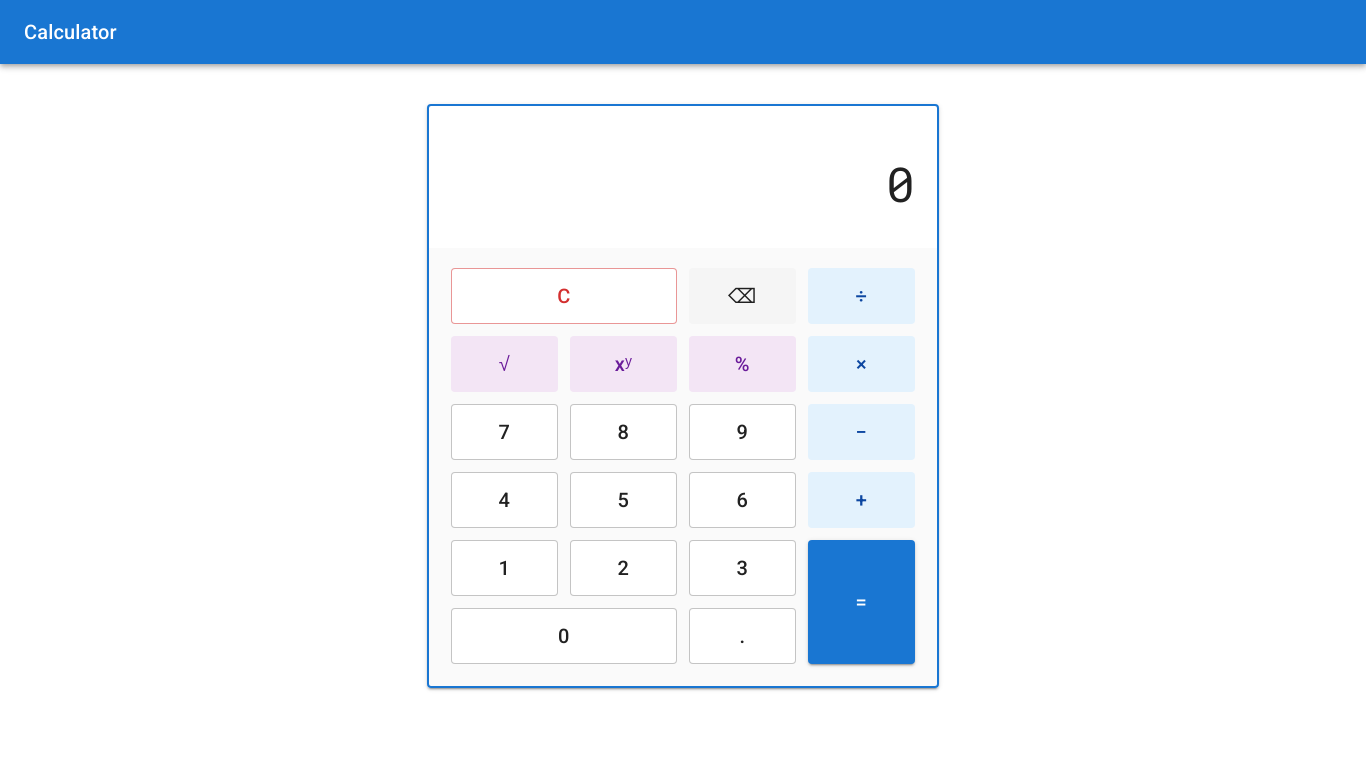
Test: errors › opens the snackbar on a 500
Step 1. Click the button "2" → click(624, 568), box [570,540,677,596]
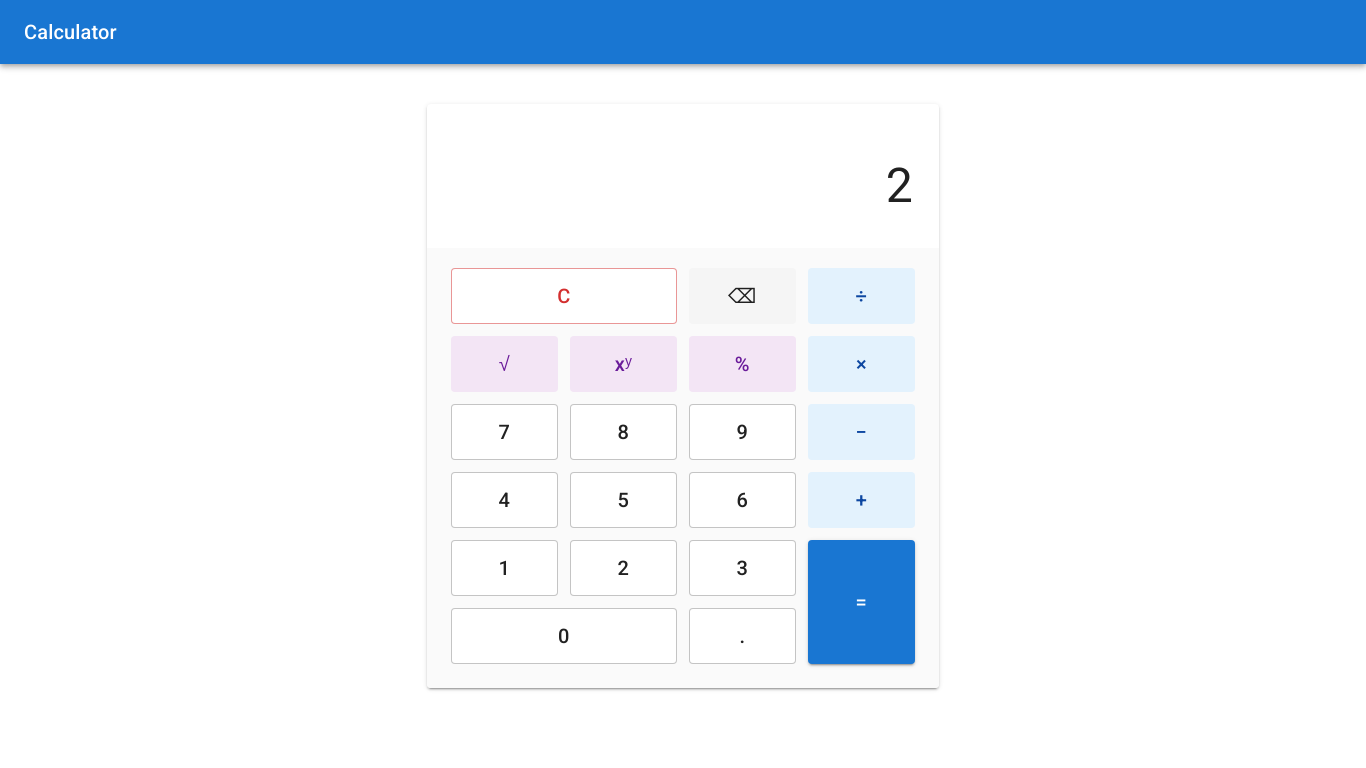
Step 2. Click the button named "Plus" → click(862, 500), box [808,472,915,528]
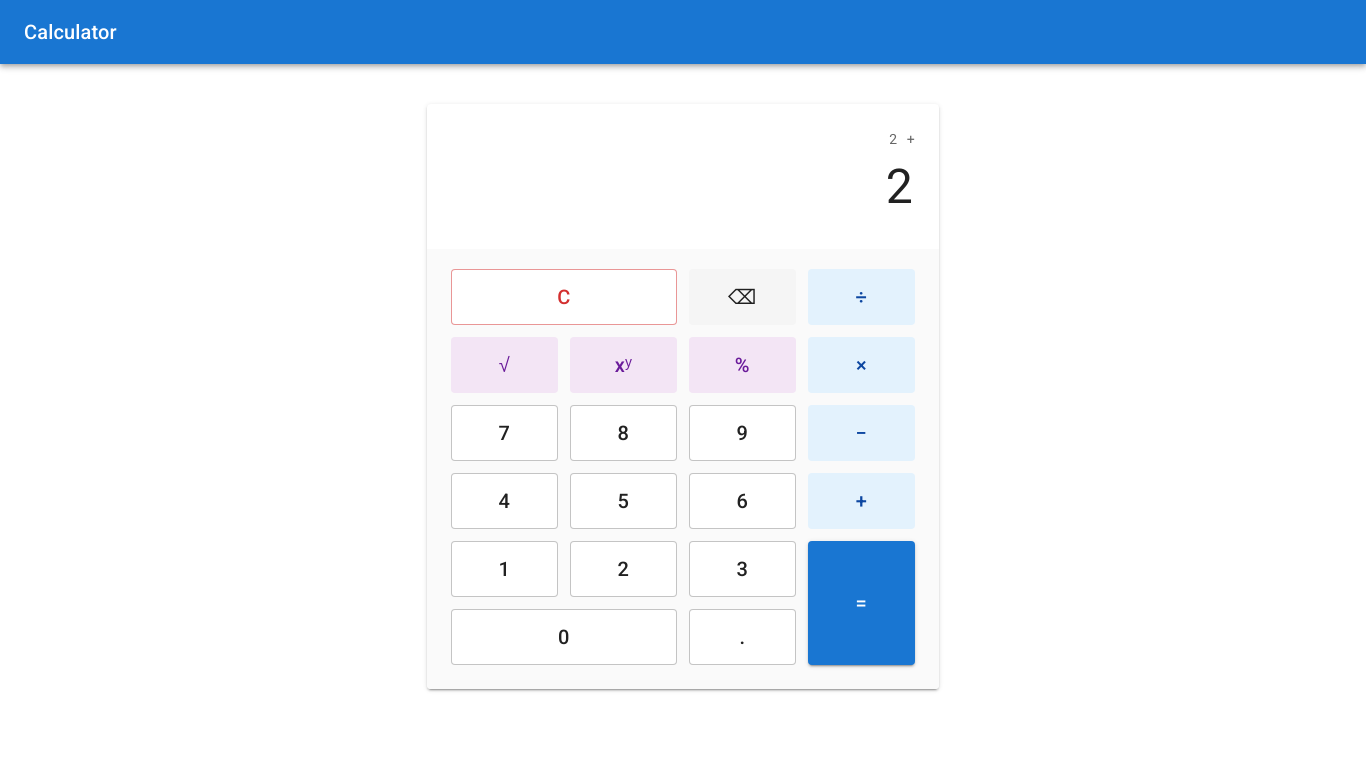
Step 3. Click the button "3" → click(742, 569), box [689,541,796,597]
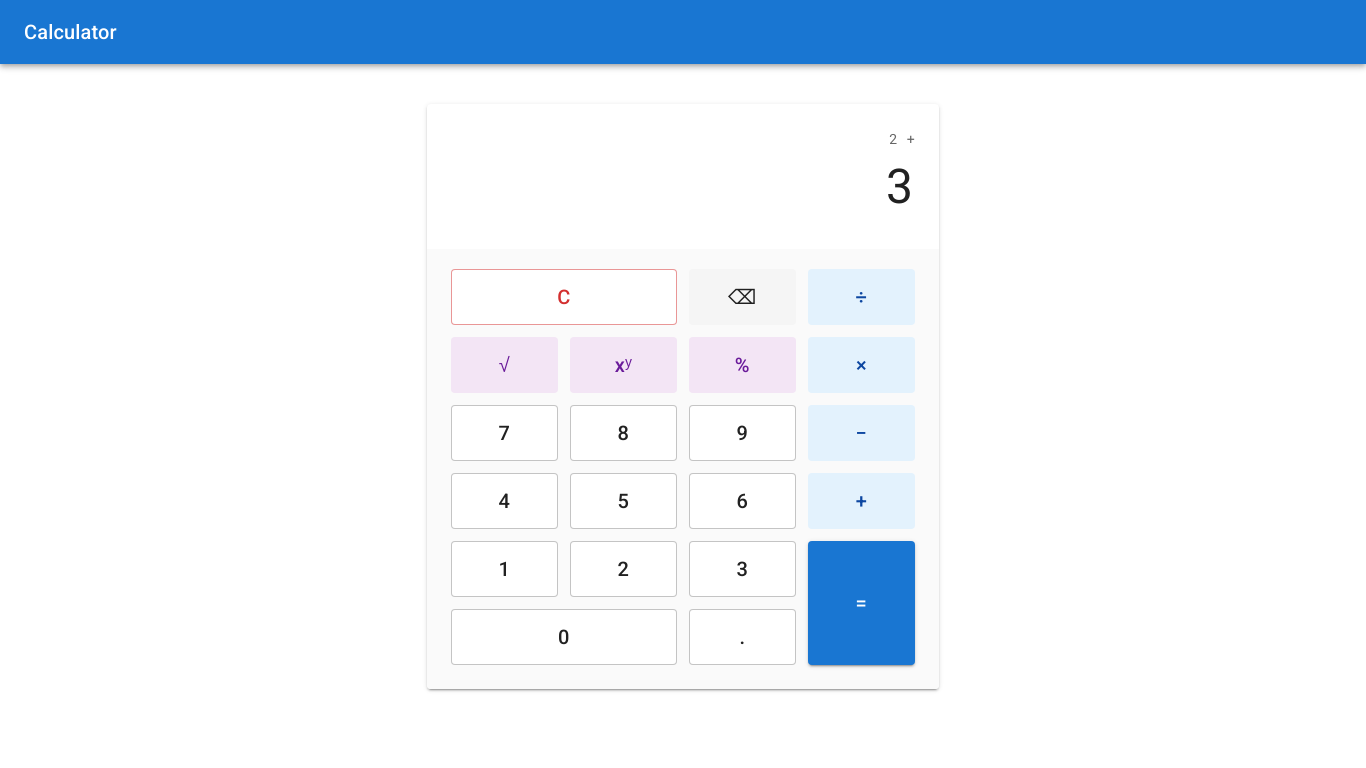
Step 4. Click the button named "Equals" → click(862, 603), box [808,541,915,665]
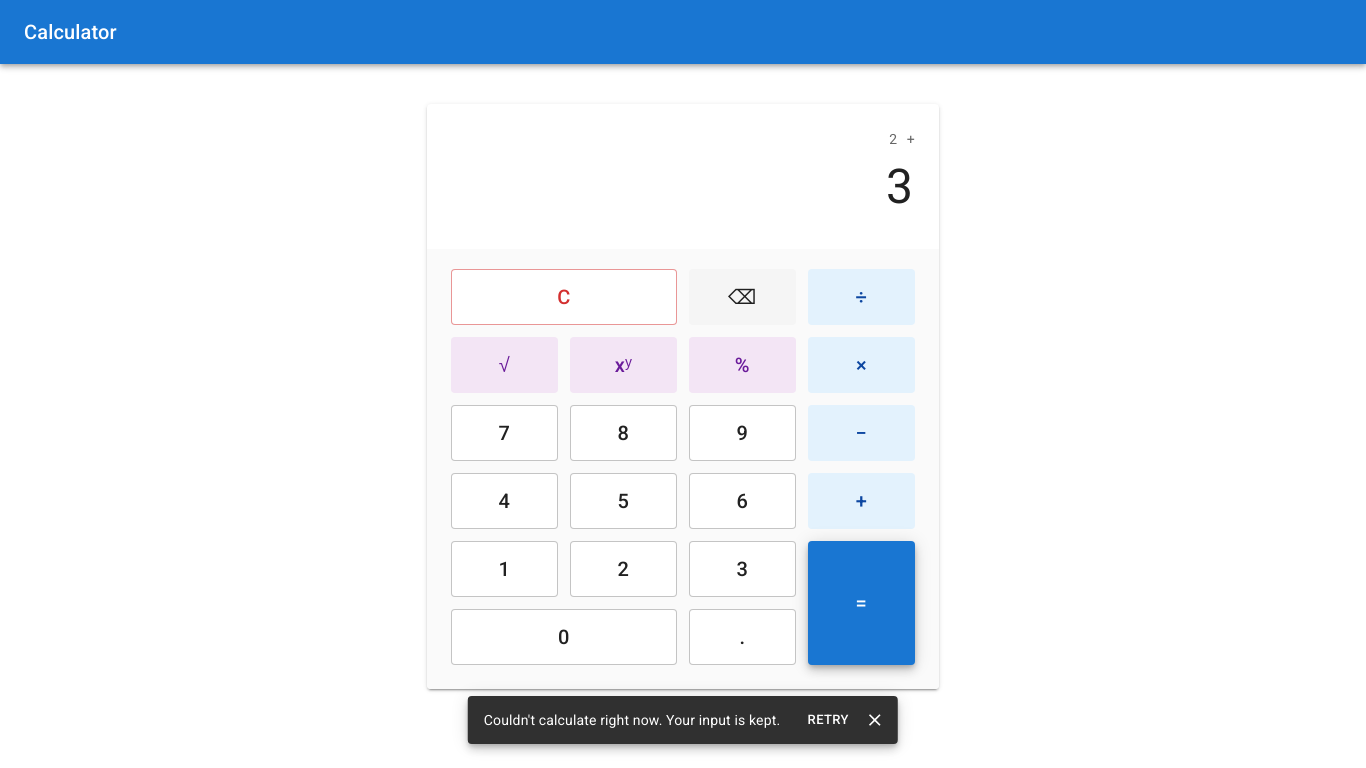
Now the text "Couldn't calculate right now. Your input is kept." is shown, box [484,712,780,728]
